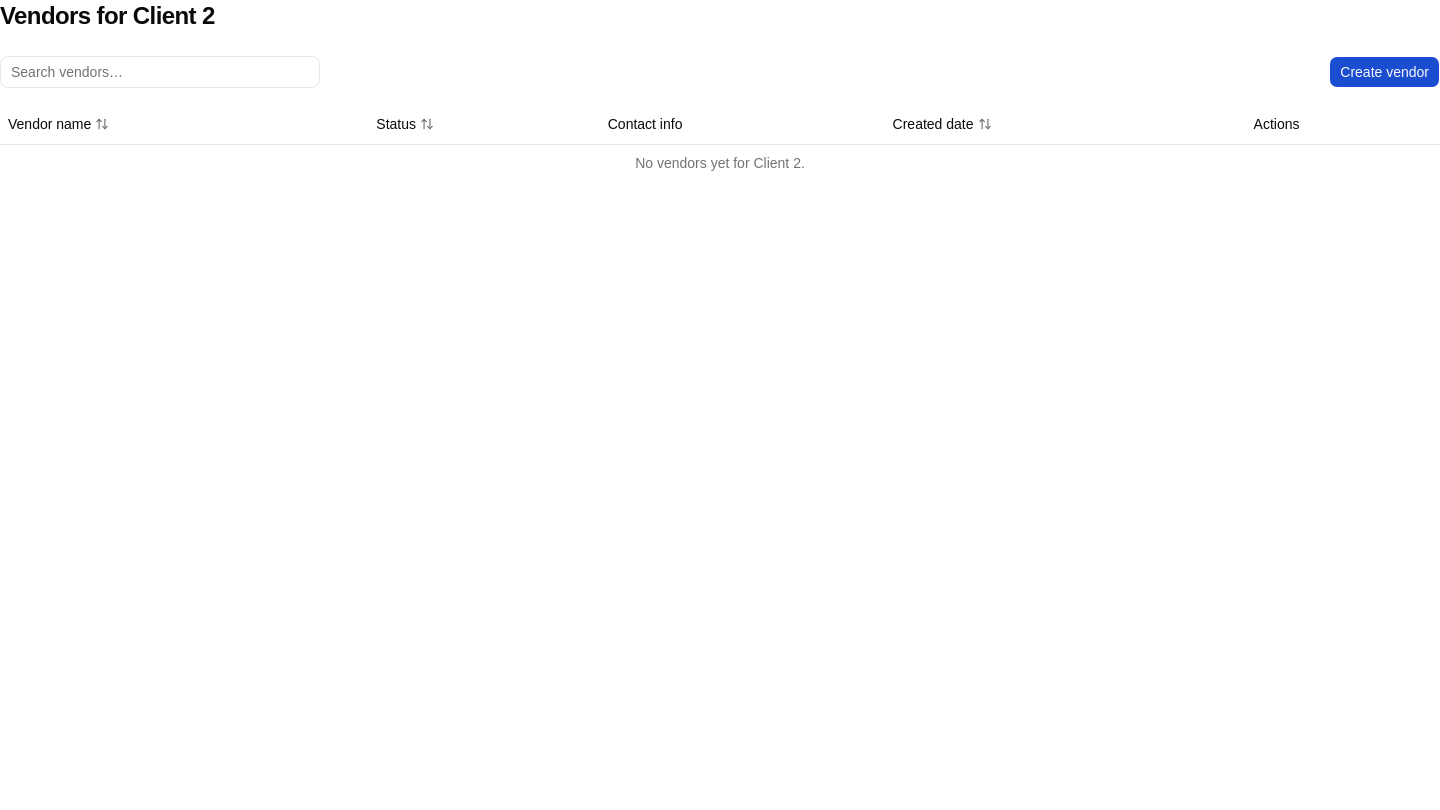
Test: VendorsPage › AC: CRUD operations work end-to-end (create with contact info, edit)
Click the button "Create vendor". click: {"x": 1385, "y": 72}
box: left=1329, top=56, right=1439, bottom=88
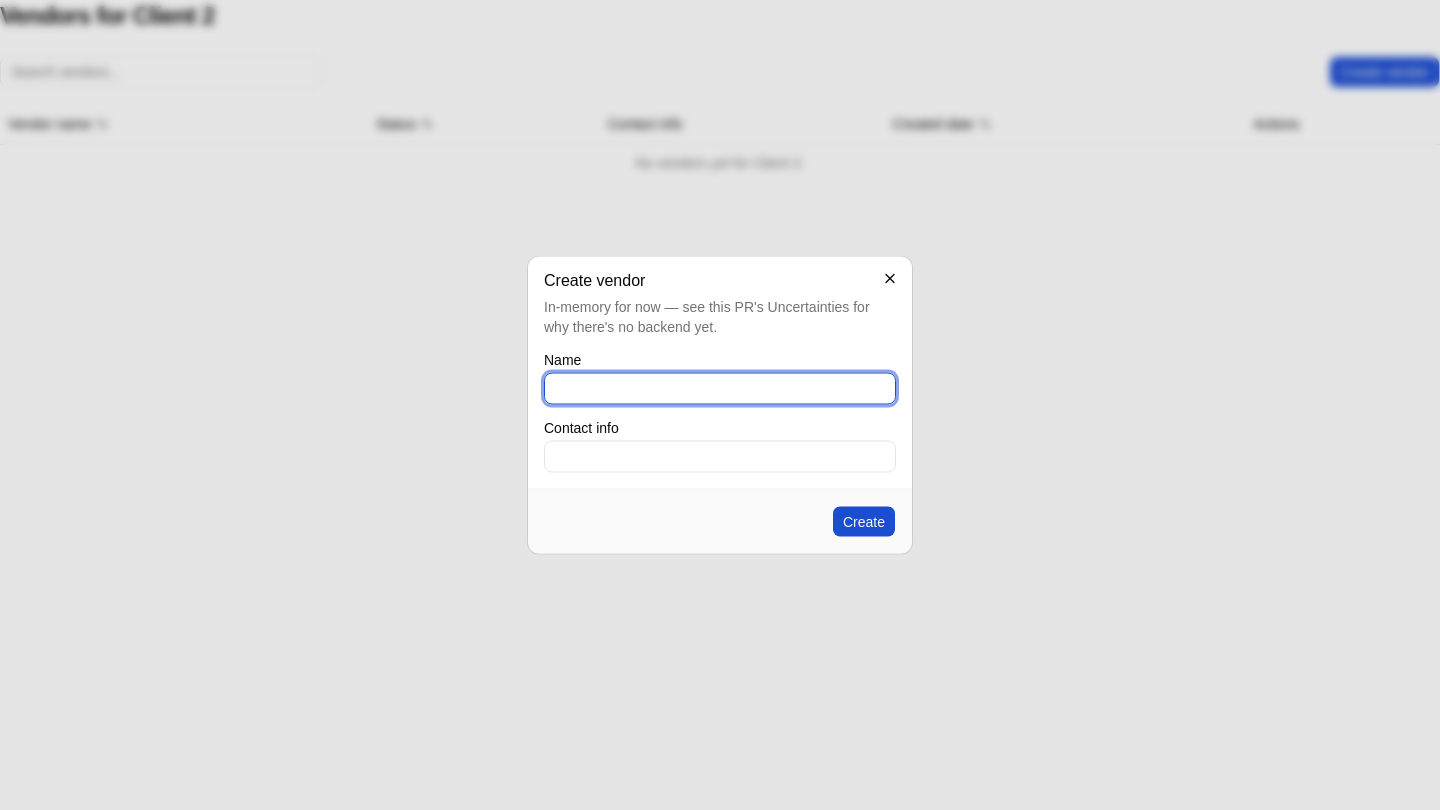
Type "Acme Trucking" into the field labelled "Name". click: {"x": 720, "y": 388}
box: left=544, top=372, right=896, bottom=404
Type "ops@acmetrucking.test" into the field labelled "Contact info". click: {"x": 720, "y": 456}
box: left=544, top=440, right=896, bottom=472
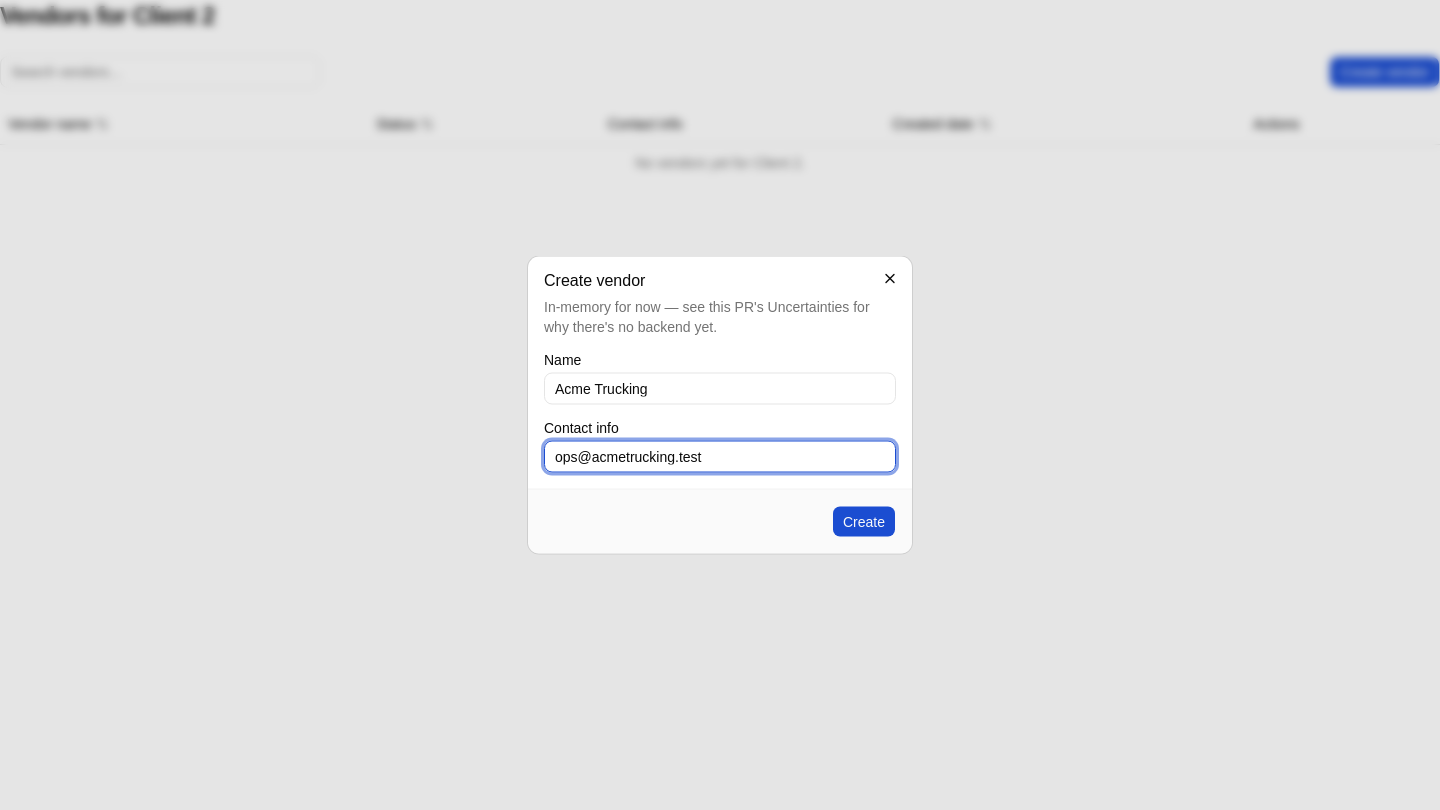
Click the button "Create". click: {"x": 864, "y": 522}
box: left=832, top=506, right=896, bottom=538
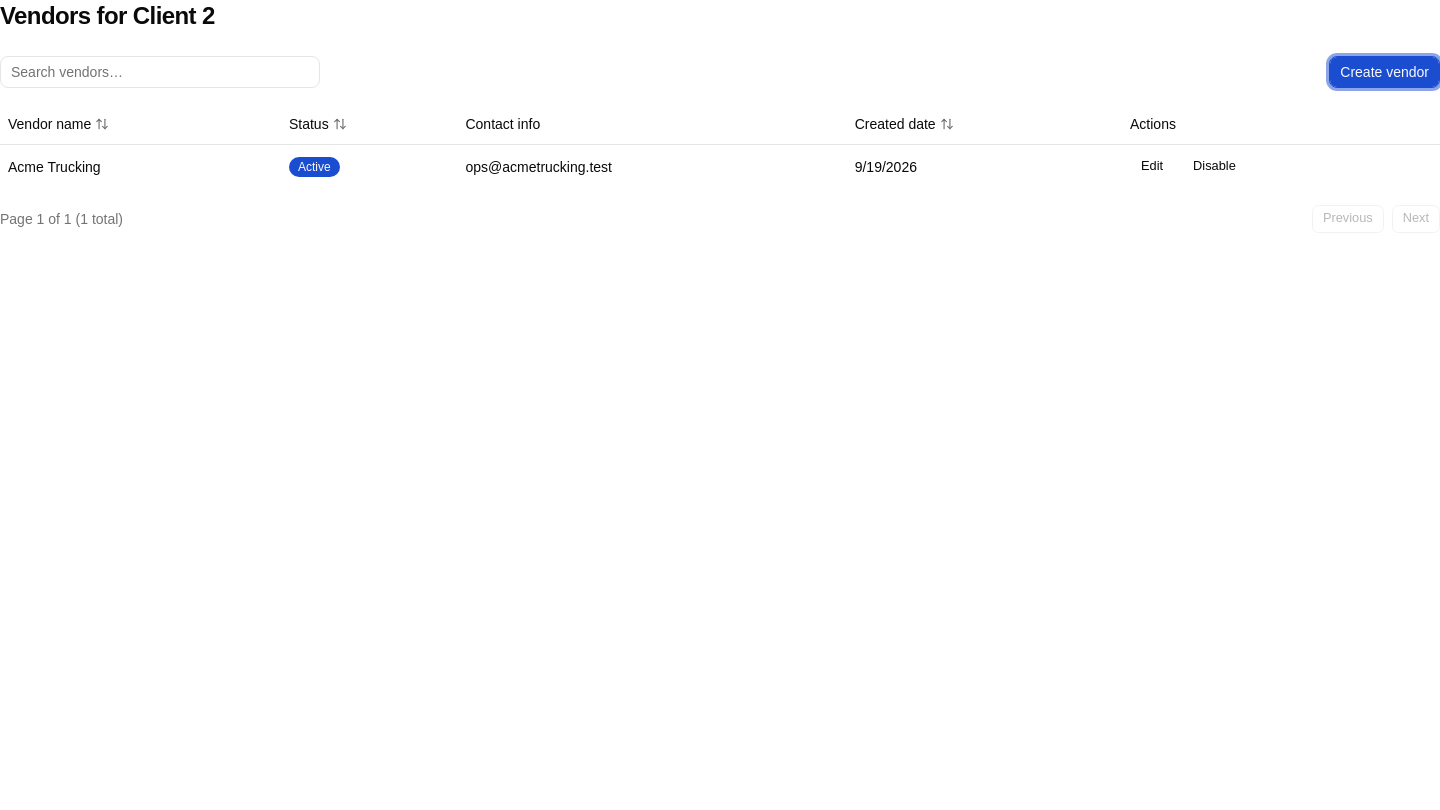
Expected: the text "Acme Trucking" is shown, left=0, top=144, right=281, bottom=188
Expected: the text "ops@acmetrucking.test" is shown, left=458, top=144, right=847, bottom=188
Click the button "Edit". click: {"x": 1152, "y": 166}
box: left=1130, top=152, right=1174, bottom=180
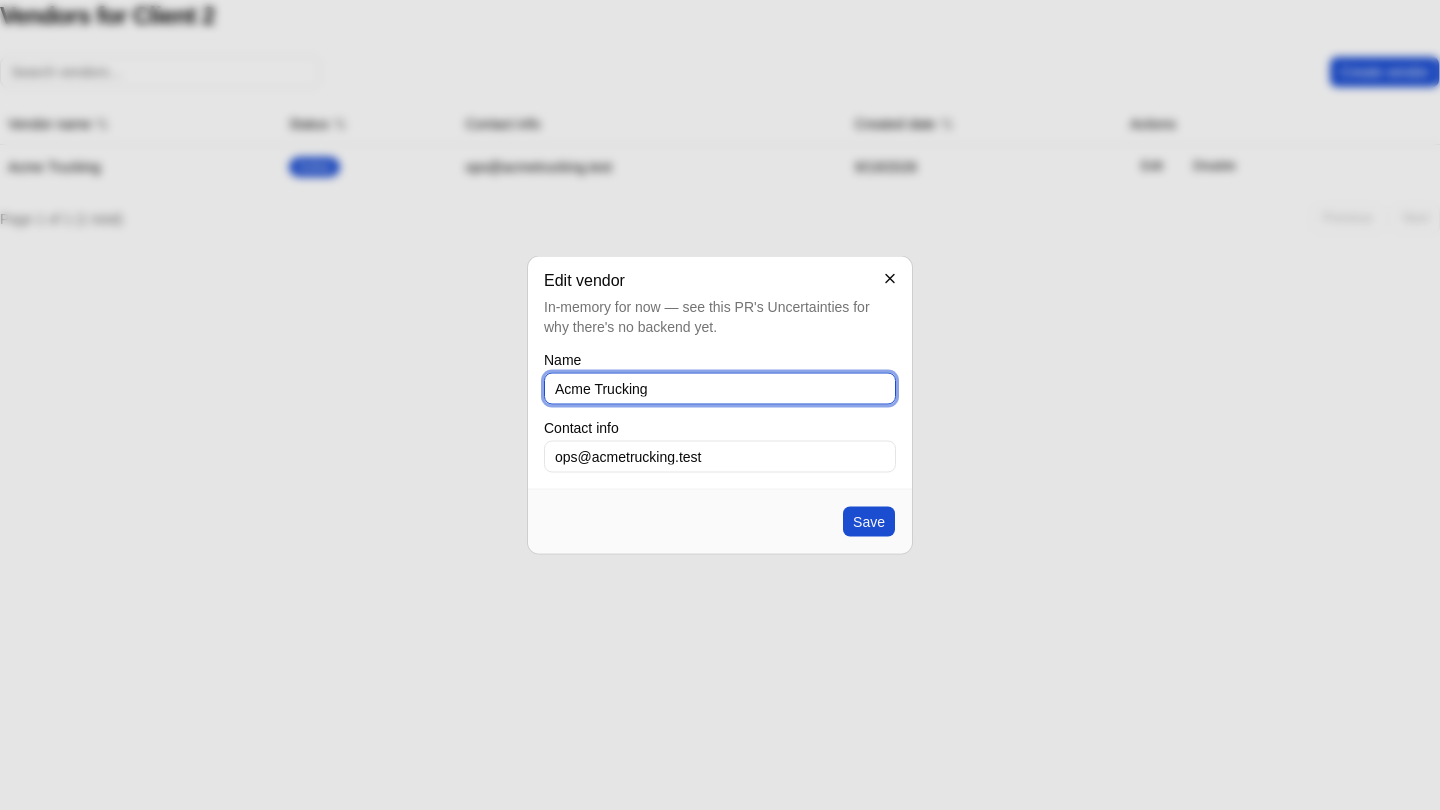
Replace the text in the field labelled "Name" with "Acme Trucking Co". click: {"x": 720, "y": 388}
box: left=544, top=372, right=896, bottom=404
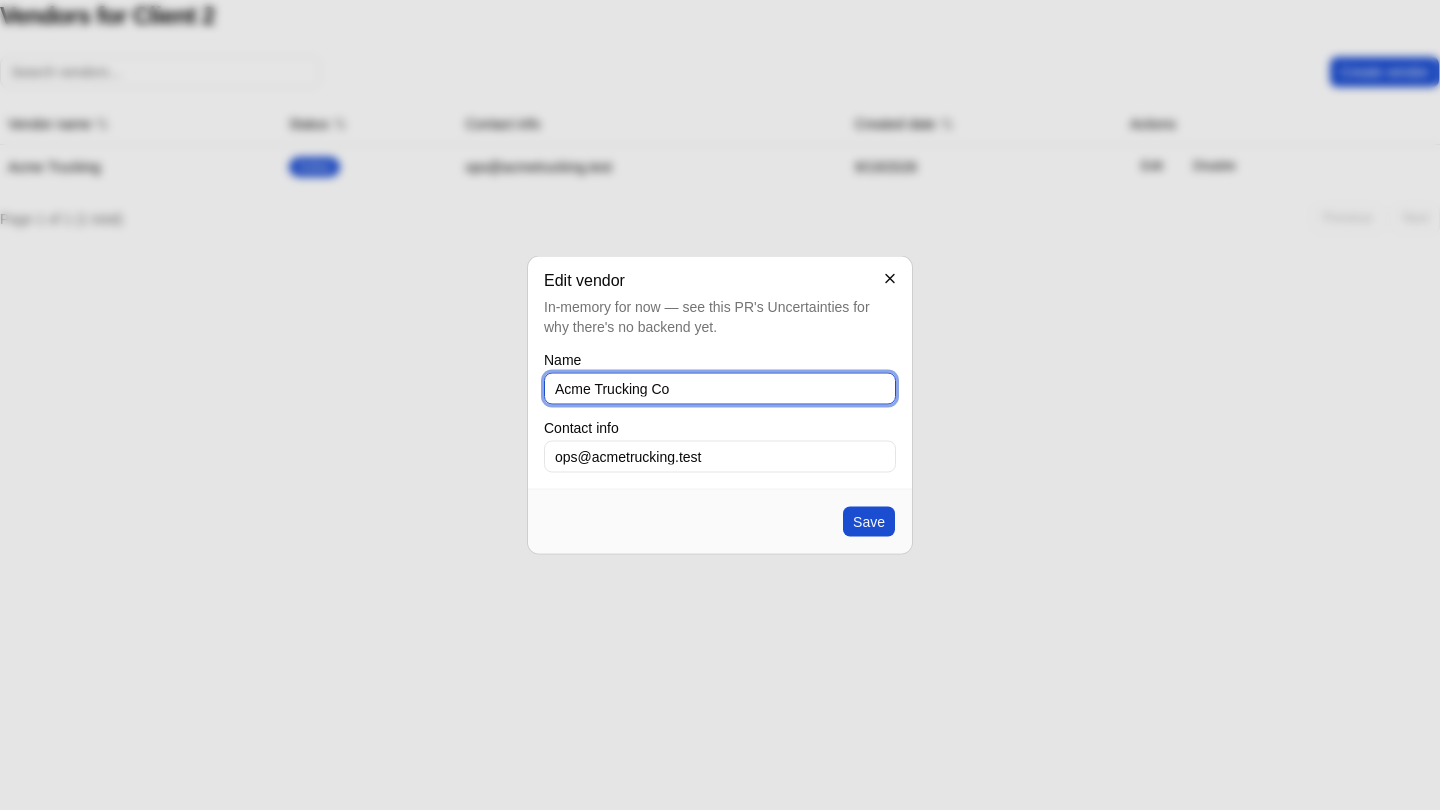
Click the button "Save". click: {"x": 869, "y": 522}
box: left=842, top=506, right=896, bottom=538
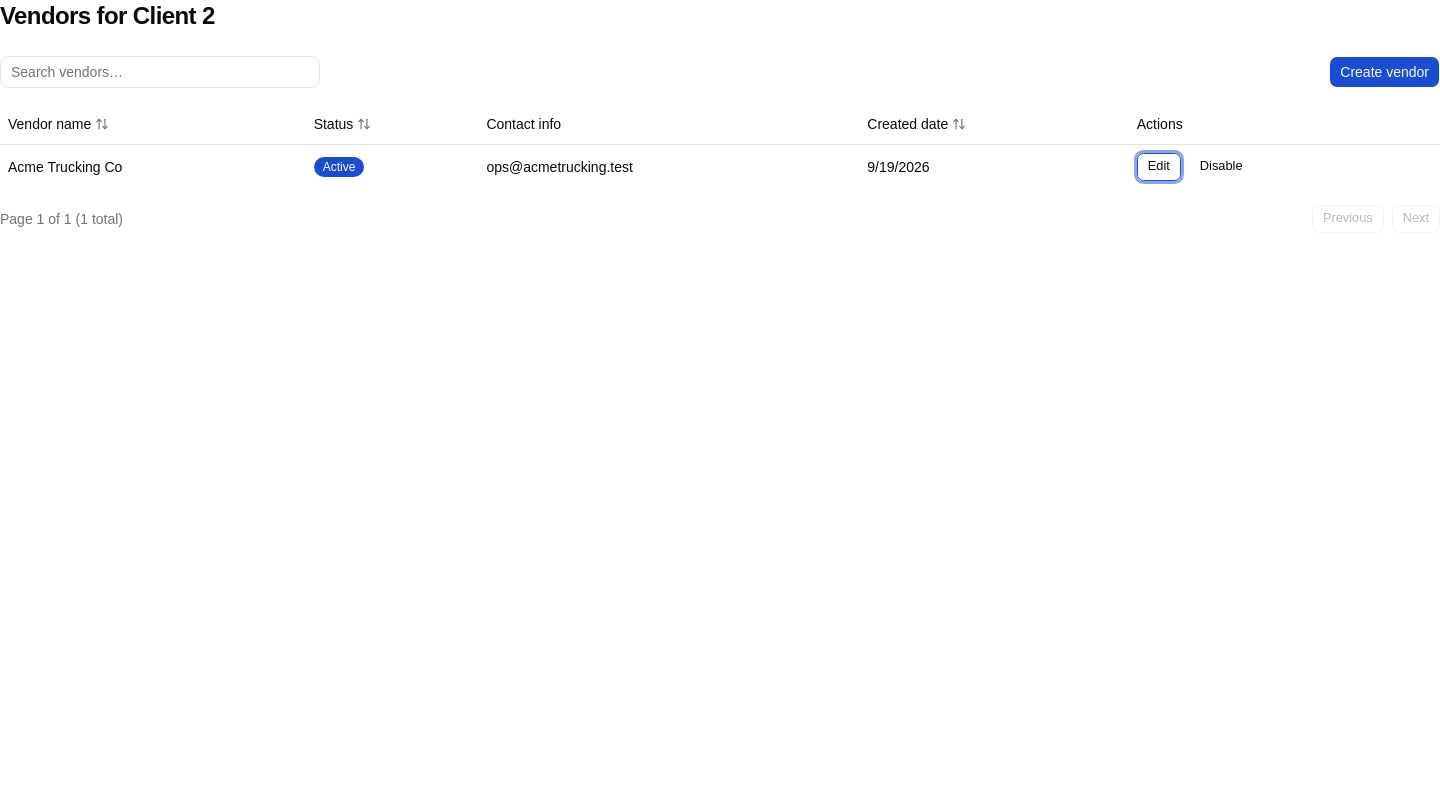
Expected: the text "Acme Trucking Co" is shown, left=0, top=144, right=306, bottom=188
